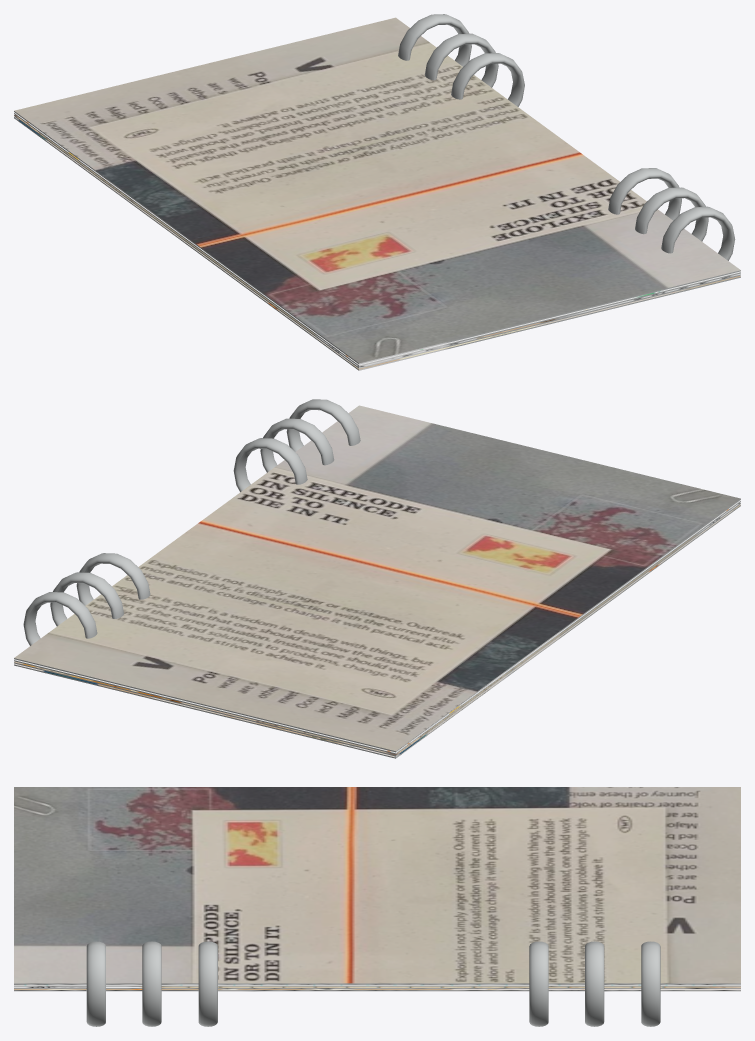
Rendered from Notebook.fbx.
3 views of the same model, one above another, from view 1: azimuth 30°, elevation 25°; view 2: azimuth 150°, elevation 25°; view 3: azimuth 270°, elevation 25° (orthographic). The views are drawn at different scales.
Parts seen in each view (by area): view 1: pCube6, pCube5, pCube3, pCube4, pTorus7, pTorus4, pTorus2, pTorus5, pTorus3, pTorus6; view 2: pCube6, pCube3, pCube4, pCube5, pTorus6, pTorus3, pTorus5, pTorus2, pTorus7, pTorus4; view 3: pCube6, pCube3, pCube4, pCube5, pTorus4, pTorus5, pTorus3, pTorus6, pTorus2, pTorus7.
Boxes of the visible parts, <box> form: pCube6: <box>14,17,740,364</box>; pCube5: <box>14,112,740,366</box>; pCube3: <box>14,117,740,370</box>; pCube4: <box>14,115,740,368</box>; pTorus7: <box>661,206,735,260</box>; pTorus4: <box>451,53,524,106</box>; pTorus2: <box>424,33,498,87</box>; pTorus5: <box>635,187,708,241</box>; pTorus3: <box>398,14,471,66</box>; pTorus6: <box>608,168,681,220</box>; pCube6: <box>14,405,740,752</box>; pCube3: <box>14,505,740,758</box>; pCube4: <box>14,502,740,756</box>; pCube5: <box>14,500,740,754</box>; pTorus6: <box>233,438,307,492</box>; pTorus3: <box>23,592,97,645</box>; pTorus5: <box>260,418,334,472</box>; pTorus2: <box>50,572,123,626</box>; pTorus7: <box>286,399,360,451</box>; pTorus4: <box>76,553,150,605</box>; pCube6: <box>14,787,740,984</box>; pCube3: <box>14,989,740,991</box>; pCube4: <box>14,986,740,988</box>; pCube5: <box>14,984,740,986</box>; pTorus4: <box>529,941,548,1026</box>; pTorus5: <box>142,941,161,1026</box>; pTorus3: <box>641,941,660,1026</box>; pTorus6: <box>198,941,217,1026</box>; pTorus2: <box>585,941,604,1026</box>; pTorus7: <box>86,941,105,1026</box>.
Bounding box in the file's own units: 0.387 × 0.0658 × 0.56.
